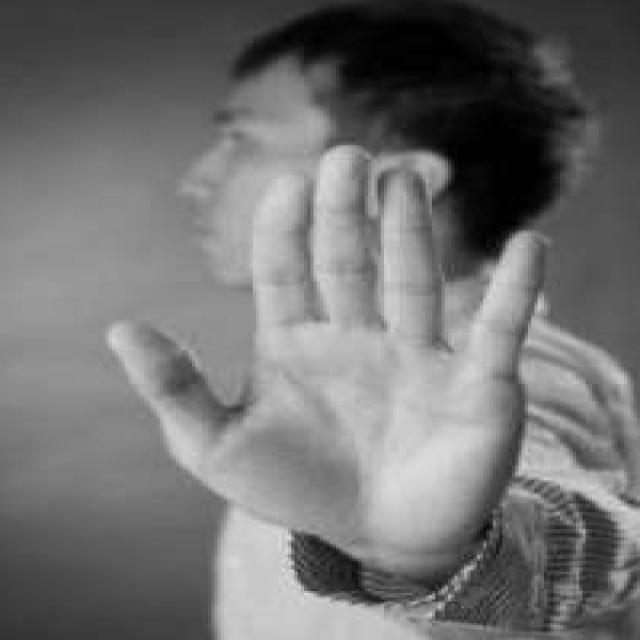stop: (96, 134, 562, 568)
